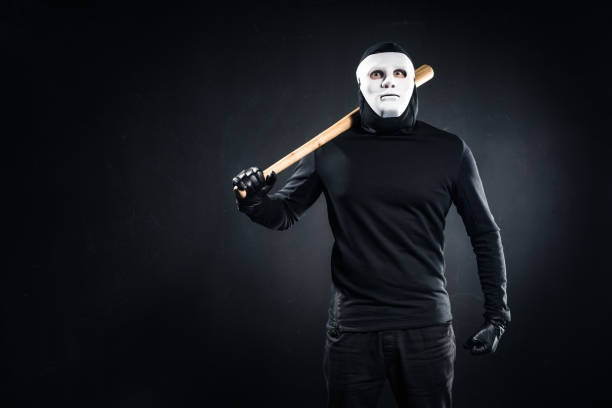bita: (248, 66, 427, 185)
